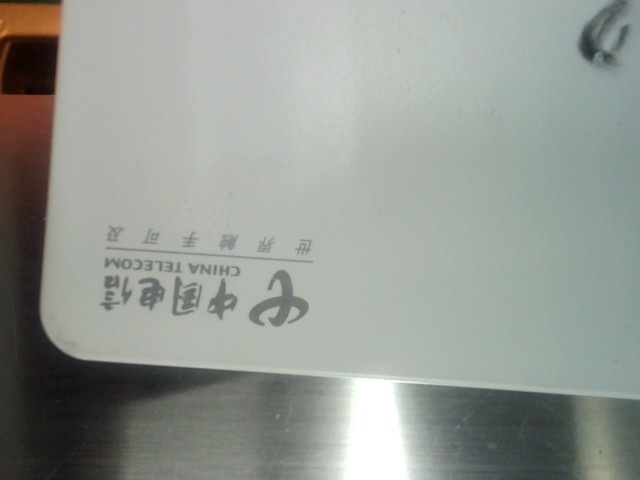AB_ChinaTelecom: (99, 222, 325, 329)
